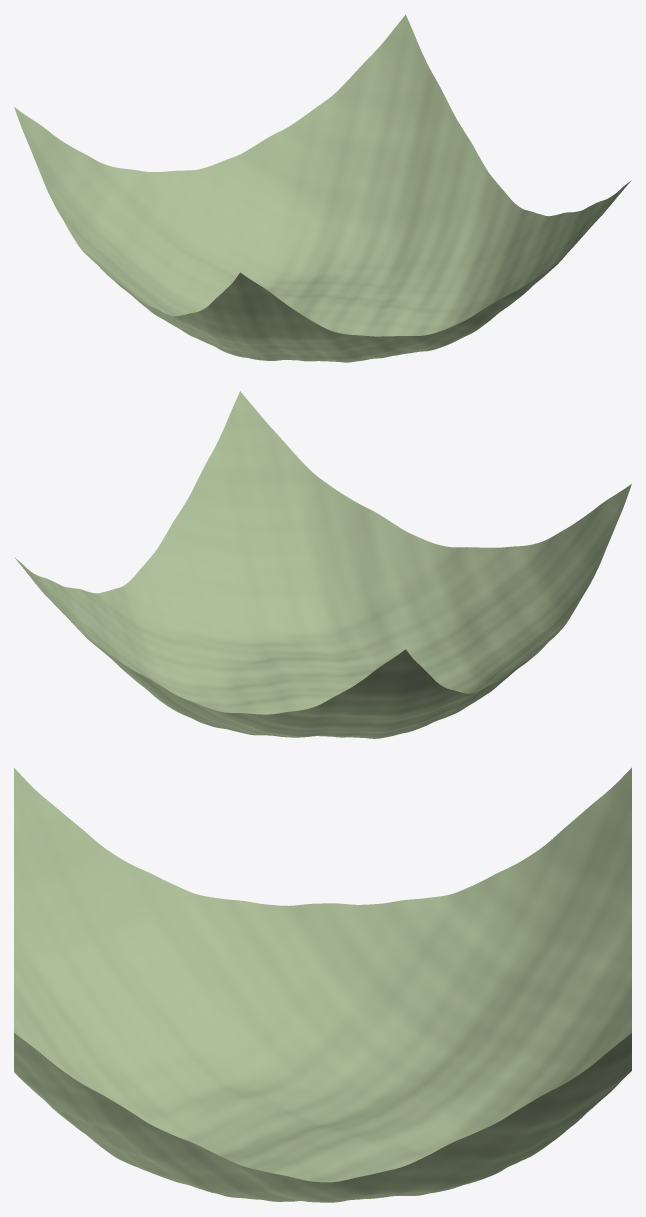
The model's file is caverna.fbx.
3 views of the same model, one above another, from view 1: azimuth 30°, elevation 25°; view 2: azimuth 150°, elevation 25°; view 3: azimuth 270°, elevation 25° (orthographic). The views are drawn at different scales.
Parts seen in each view (by area): view 1: part_0; view 2: part_0; view 3: part_0.
Boxes of the visible parts, x1,y1,x2,y2 form: part_0: (14,14,630,362); part_0: (15,391,631,738); part_0: (14,767,631,1202).
Bounding box in the file's own units: 20000 × 8929 × 20000.
